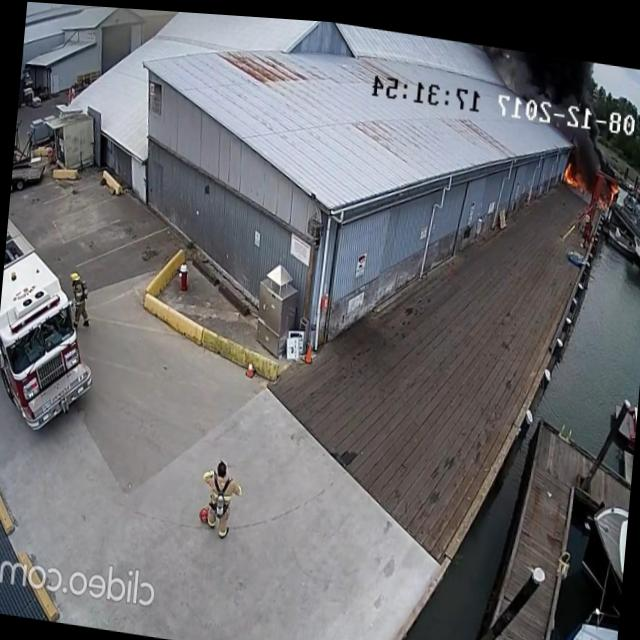fire: (560, 147, 590, 187), (595, 170, 620, 205)
